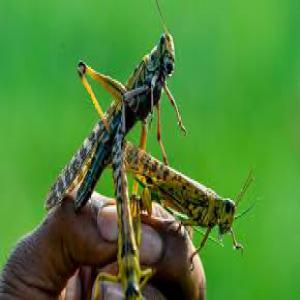locust: (48, 22, 181, 206), (126, 129, 277, 256)
